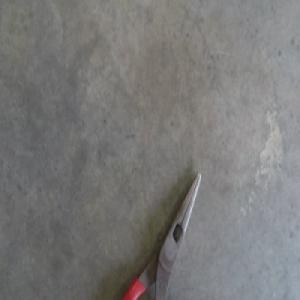Pliers: (124, 169, 201, 299)
